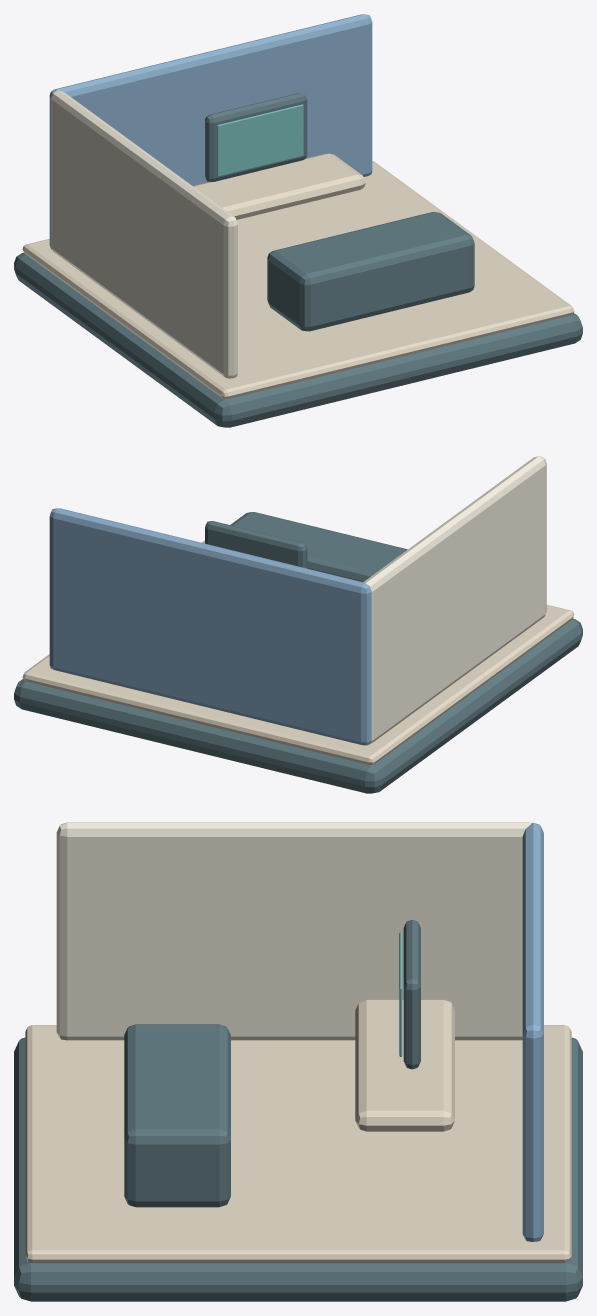
The model's file is Om-Portfolio.glb.
The picture shows the model from 3 angles, top to bottom: view 1: azimuth 30°, elevation 25°; view 2: azimuth 150°, elevation 25°; view 3: azimuth 270°, elevation 25°; orthographic projection. The views are drawn at different scales.
Parts seen in each view (by area): view 1: Surface, Wall side, Wall back, Sofa, Base, Desk, Screen, Monitor; view 2: Wall back, Wall side, Base, Surface, Sofa, Monitor; view 3: Wall side, Surface, Base, Sofa, Desk, Wall back, Monitor.
Part boxes in pixels (x1,y1,x2,y2): Surface: [22, 161, 574, 399]; Wall side: [51, 90, 237, 378]; Wall back: [49, 14, 372, 249]; Sofa: [267, 212, 474, 331]; Base: [14, 252, 582, 427]; Desk: [193, 153, 365, 219]; Screen: [217, 104, 303, 176]; Monitor: [205, 93, 307, 182]; Wall back: [49, 508, 371, 745]; Wall side: [363, 456, 546, 743]; Base: [14, 618, 582, 793]; Surface: [22, 540, 574, 765]; Sofa: [230, 512, 407, 581]; Monitor: [205, 521, 307, 568]; Wall side: [56, 822, 531, 1040]; Surface: [25, 1025, 571, 1263]; Base: [14, 1037, 582, 1301]; Sofa: [124, 1024, 230, 1207]; Desk: [355, 999, 454, 1131]; Wall back: [522, 822, 543, 1241]; Monitor: [403, 920, 420, 1069].
Size of the model in its own units: 4 by 2.05 by 4.
